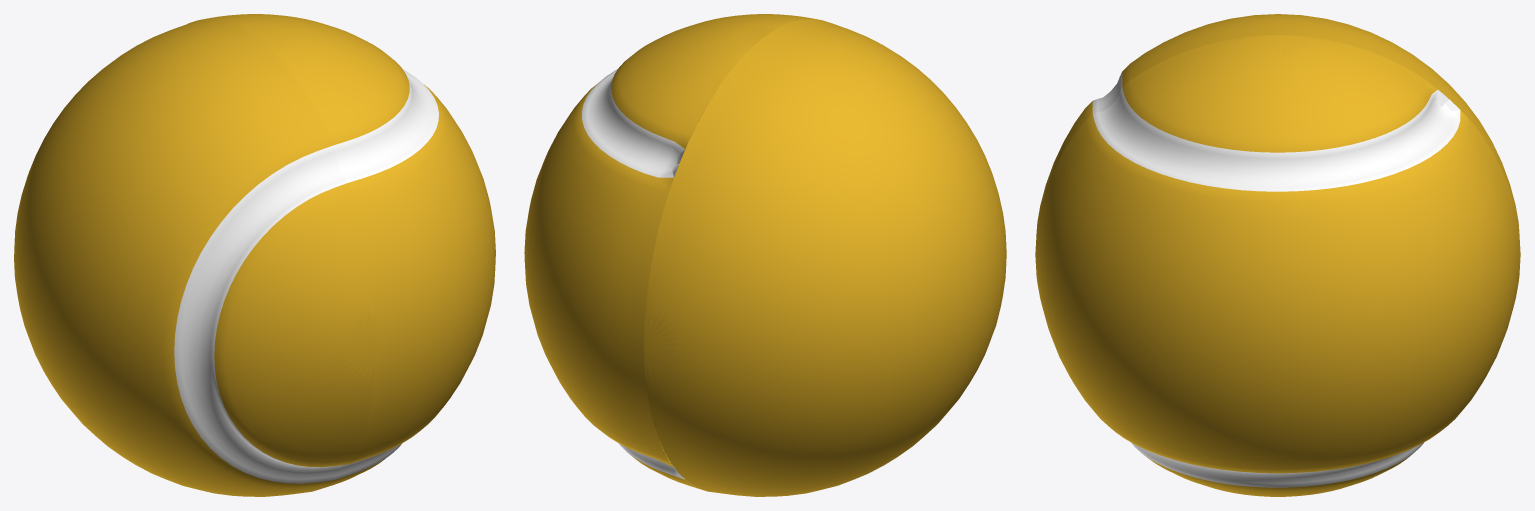
The model's file is Tenis Ball 1.0.fbx.
3 renders of one model, left to right at view 1: azimuth 30°, elevation 25°; view 2: azimuth 150°, elevation 25°; view 3: azimuth 270°, elevation 25°, orthographic.
Parts seen in each view (by area): view 1: Sphere; view 2: Sphere; view 3: Sphere.
Part boxes in pixels (x1,y1,x2,y2): Sphere: [14, 14, 495, 496]; Sphere: [524, 14, 1006, 496]; Sphere: [1035, 14, 1520, 496].
Size of the model in its own units: 9872 by 9936 by 9936.
